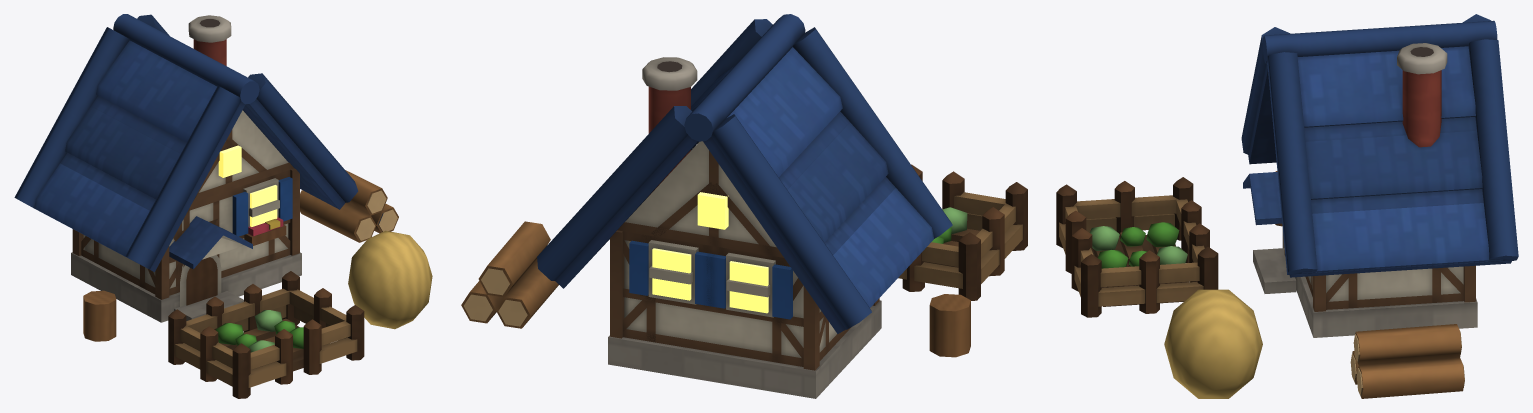
Rendered from homestead_blue.glb.
3 renders of one model, left to right at view 1: azimuth 30°, elevation 25°; view 2: azimuth 150°, elevation 25°; view 3: azimuth 270°, elevation 25°, orthographic. The views are drawn at different scales.
Parts seen in each view (by area): view 1: homestead_blue; view 2: homestead_blue; view 3: homestead_blue.
Part boxes in pixels (x1,y1,x2,y2): homestead_blue: (14,14,432,398); homestead_blue: (461,14,1027,398); homestead_blue: (1056,14,1518,398).
Size of the model in its own units: 0.6598 by 0.4712 by 0.6666.
2 materials, 1 textured.
